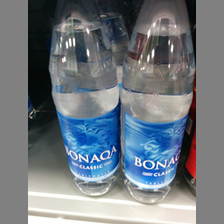water: (120, 1, 194, 204), (47, 1, 122, 197)
